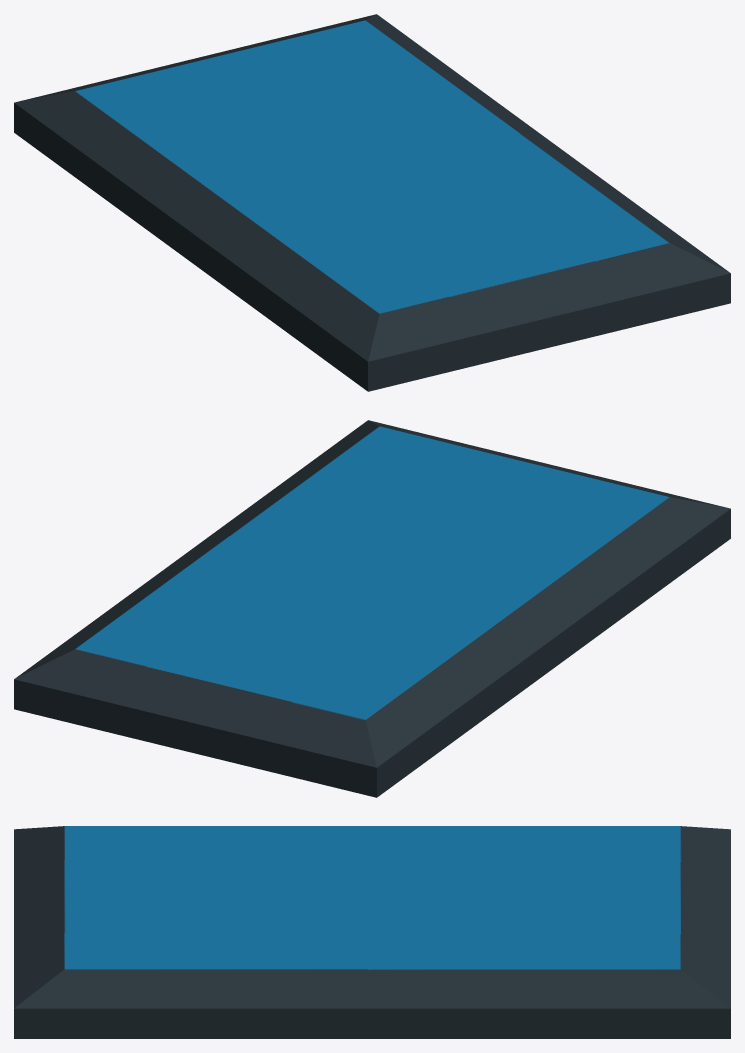
File: GridPlayer.fbx
The picture shows the model from 3 angles, top to bottom: view 1: azimuth 30°, elevation 25°; view 2: azimuth 150°, elevation 25°; view 3: azimuth 270°, elevation 25°; orthographic projection.
Parts seen in each view (by area): view 1: GridPlayer; view 2: GridPlayer; view 3: GridPlayer.
Boxes of the visible parts, left/top/right/bottom form: GridPlayer: left=14, top=14, right=730, bottom=391; GridPlayer: left=14, top=420, right=730, bottom=797; GridPlayer: left=14, top=826, right=730, bottom=1038.
Size of the model in its own units: 151 by 20.22 by 255.
1 material, 1 textured.
